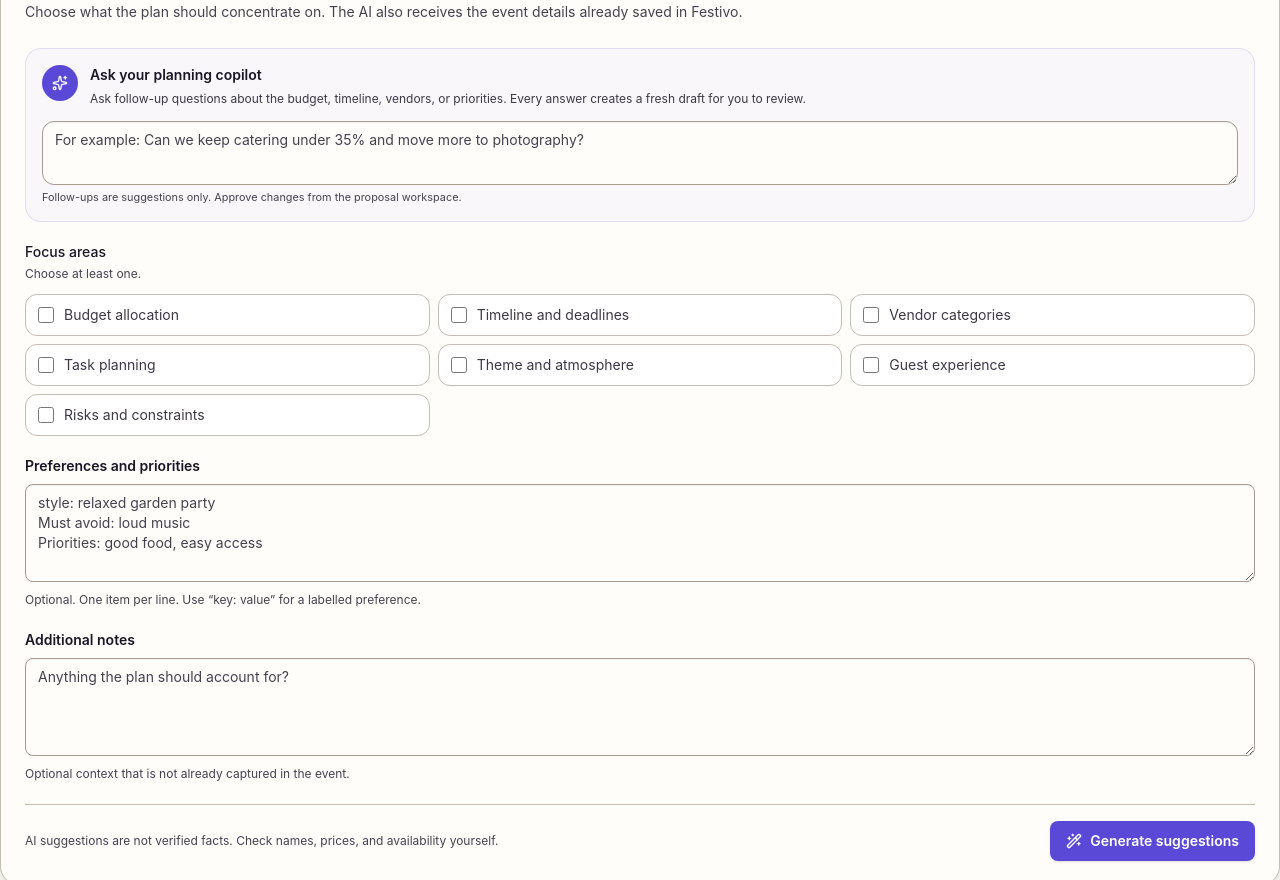
Test case: AI planning page › requires a focus area and renders generated suggestions
(page scrolled)
Click the button "Generate suggestions": (1153, 841) [1050,821,1255,861]
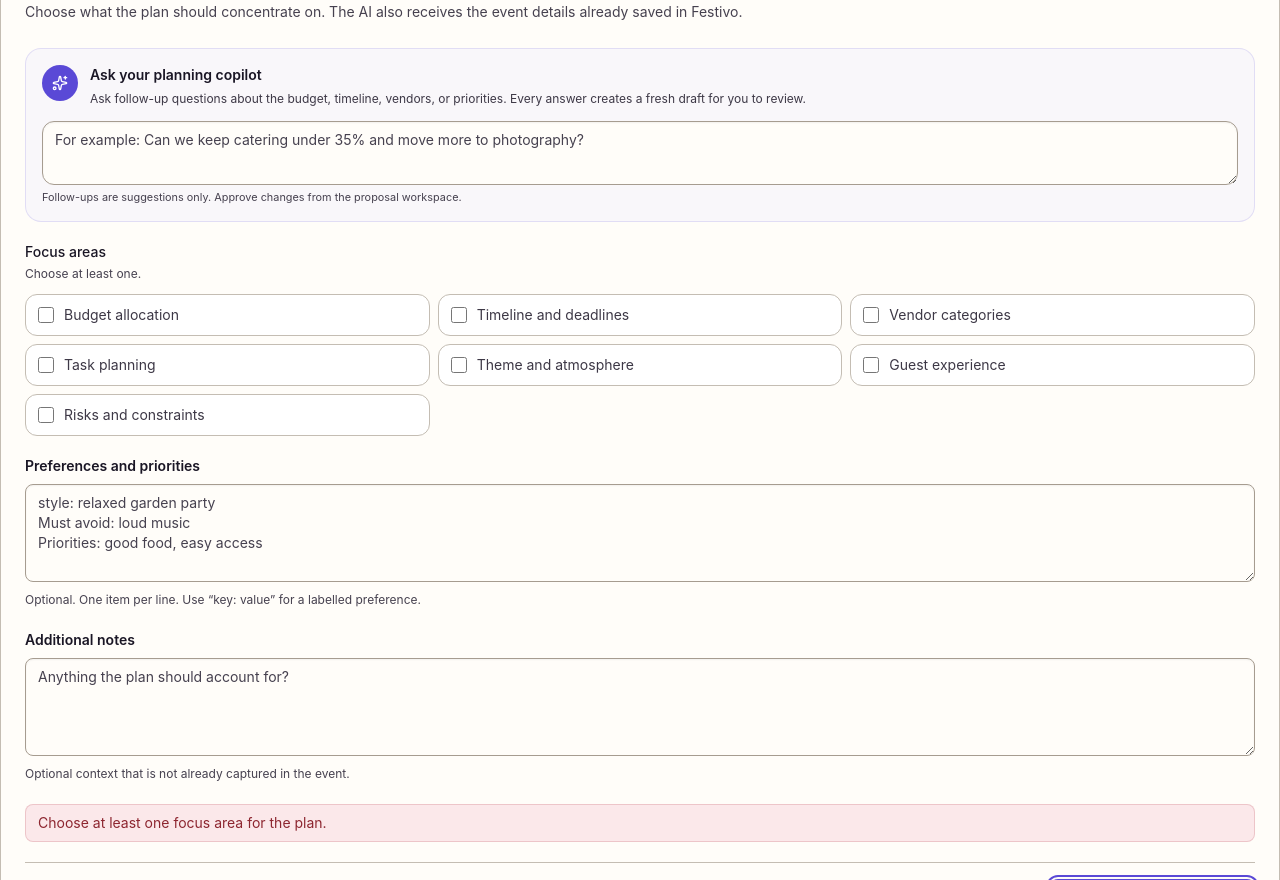
Check: the text "Choose at least one focus area for the plan." is shown, box [38,814,327,831]
Click the checkbox labelled "Budget allocation": (46, 315) [38,307,54,323]
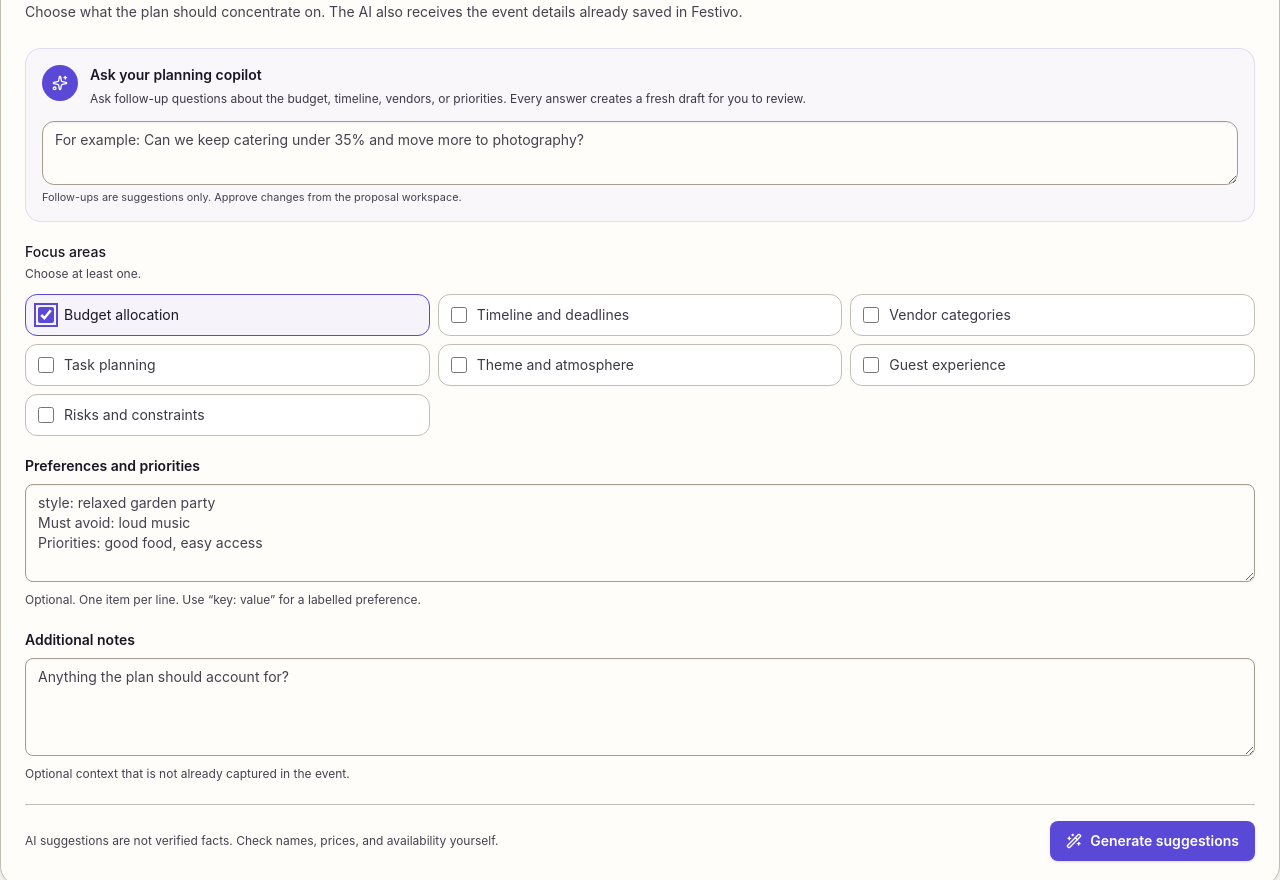
Click the button "Generate suggestions": (1153, 841) [1050,821,1255,861]
(page scrolled)
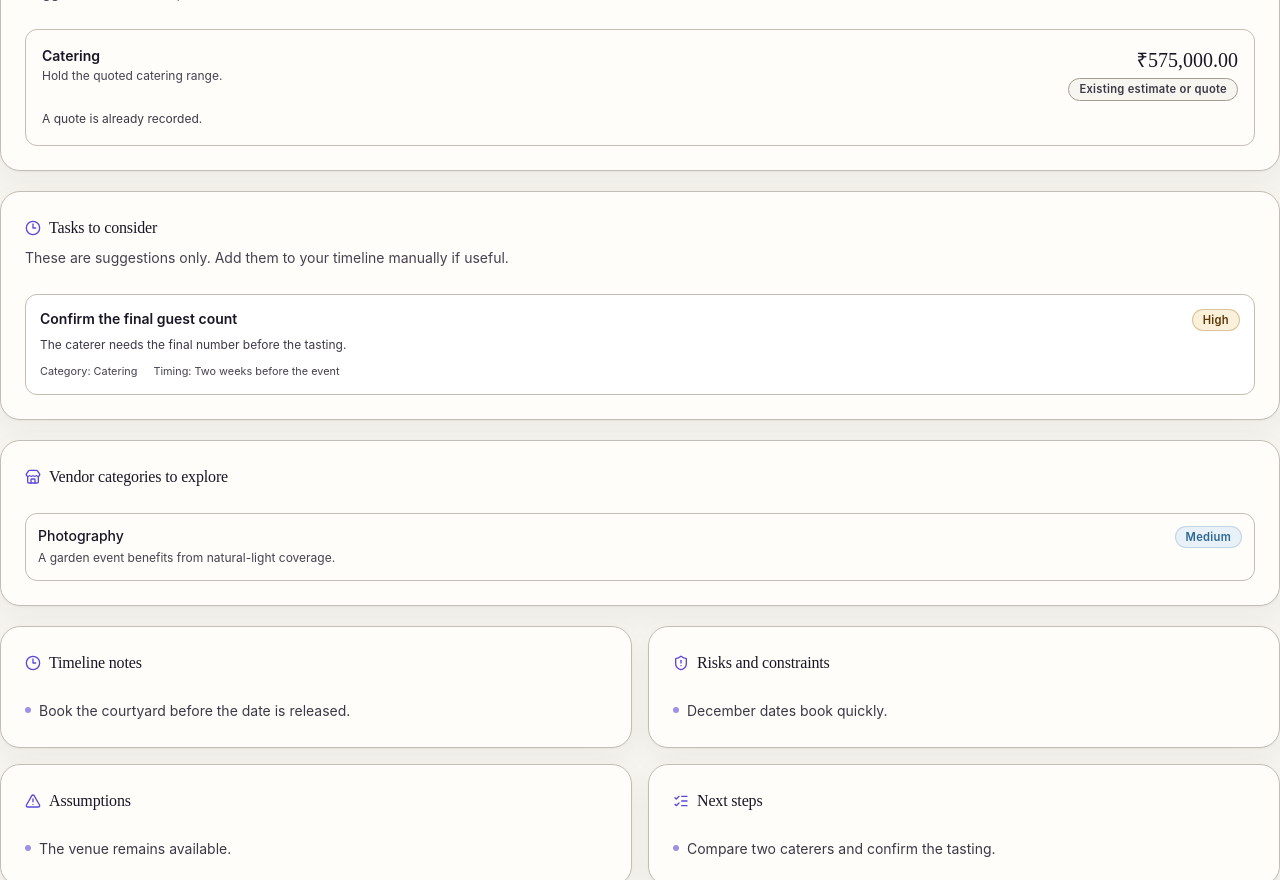
Check: the heading "Timeline notes" is shown, box [49,654,142,671]
